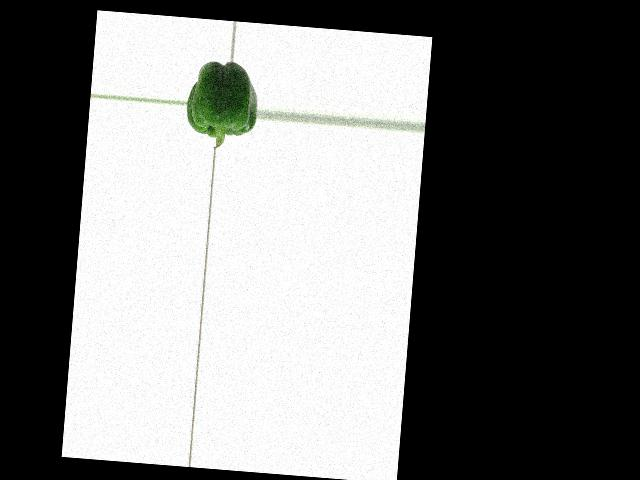bell_pepper: (184, 58, 259, 149)
